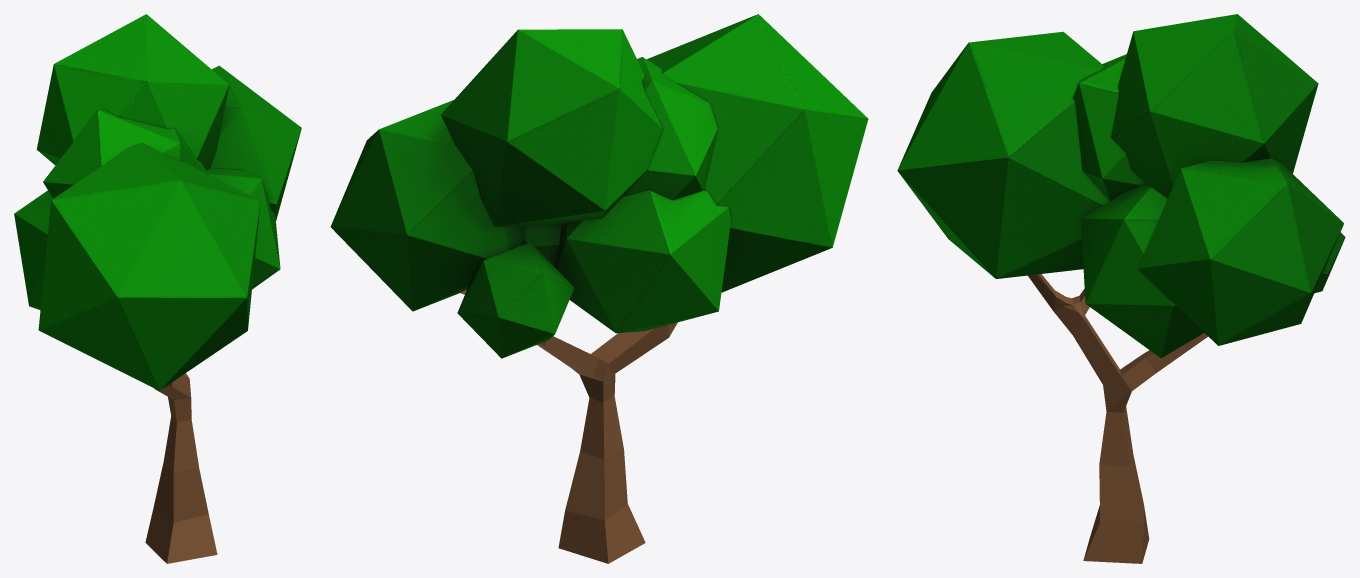
File: tree_oak.glb
The picture shows the model from 3 angles, left to right: view 1: azimuth 30°, elevation 25°; view 2: azimuth 150°, elevation 25°; view 3: azimuth 270°, elevation 25°; orthographic projection. The views are drawn at different scales.
Visible parts, largest first — view 1: Oak; view 2: Oak; view 3: Oak.
Part boxes in pixels (x1=…): Oak: x1=14, y1=14, x2=301, y2=563; Oak: x1=330, y1=14, x2=868, y2=563; Oak: x1=897, y1=14, x2=1345, y2=563.
Bounding box in the file's own units: 4.64 × 6.44 × 4.94.
2 materials, 1 textured.
